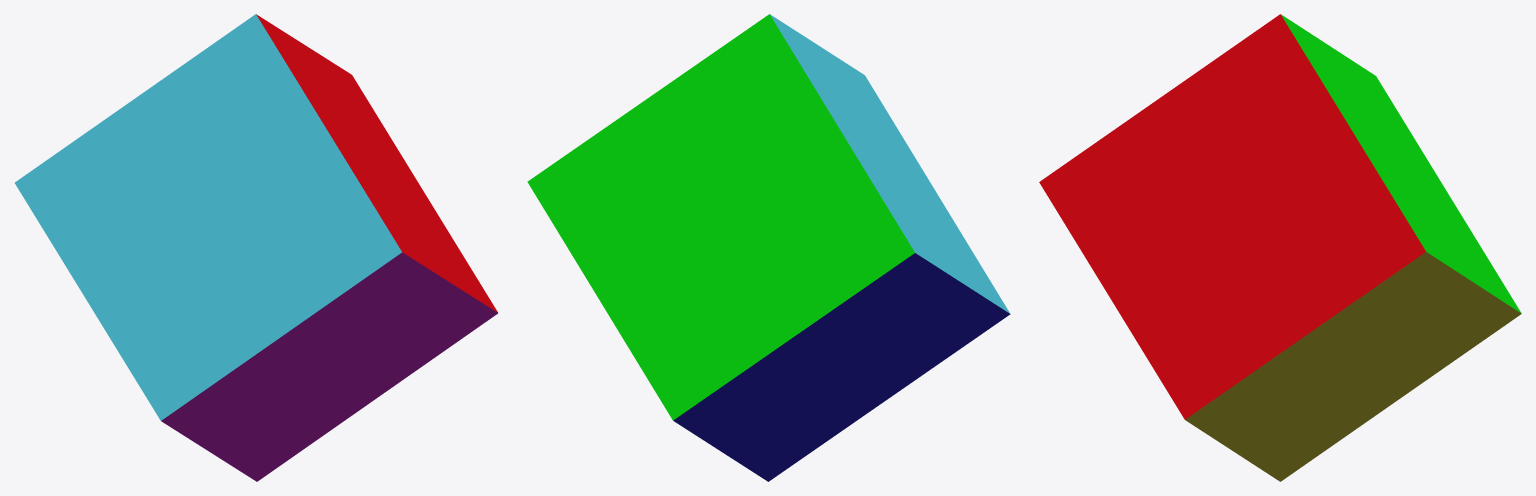
Rendered from animated_cube.glb.
3 views of the same model, side by side, from view 1: azimuth 30°, elevation 25°; view 2: azimuth 150°, elevation 25°; view 3: azimuth 270°, elevation 25° (orthographic).
Parts seen in each view (by area): view 1: Cube_0; view 2: Cube_0; view 3: Cube_0.
Boxes of the visible parts, <box> form: Cube_0: <box>15,14,497,481</box>; Cube_0: <box>527,14,1010,481</box>; Cube_0: <box>1039,14,1521,481</box>.
Size of the model in its own units: 3.01 by 3.46 by 3.24.
